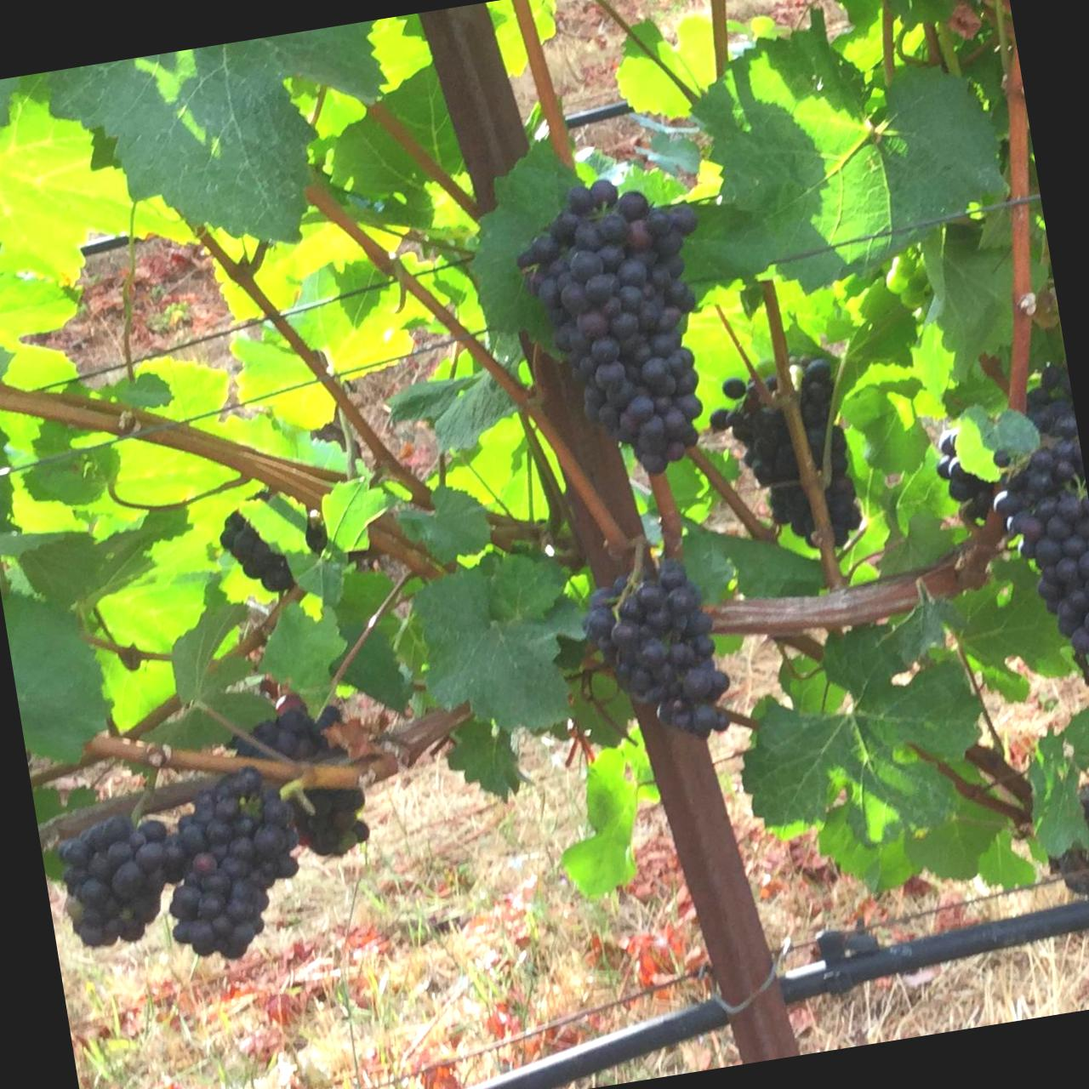Grape Ripe: (502, 158, 742, 470), (696, 314, 924, 597), (199, 627, 451, 883), (574, 530, 759, 777), (156, 759, 341, 980), (1005, 394, 1089, 680), (42, 804, 189, 925)
